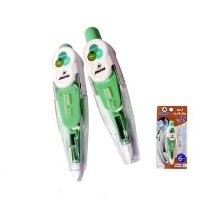book: (153, 103, 188, 171)
correction_fluid: (79, 21, 141, 166), (49, 40, 90, 182), (163, 118, 178, 166)
